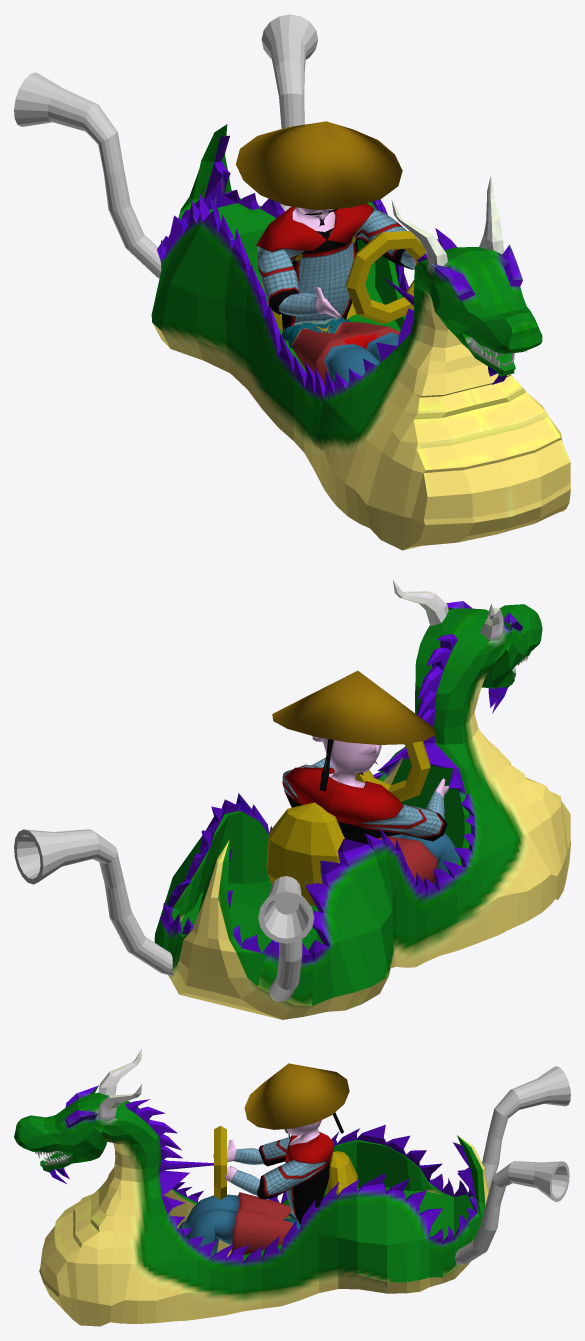
File: ChinoGiroDer_000199.obj
3 renders of one model, top to bottom at view 1: azimuth 30°, elevation 25°; view 2: azimuth 150°, elevation 25°; view 3: azimuth 270°, elevation 25°, orthographic. The views are drawn at different scales.
Parts seen in each view (by area): view 1: ChasisChino_ChasisChinoH, Chino_ChinoH, Tubos_TubosH, volanteChino_VolanteChinoH; view 2: ChasisChino_ChasisChinoH, Chino_ChinoH, Tubos_TubosH, AsientoChinoMalla_AsientoChinoMH, volanteChino_VolanteChinoH; view 3: ChasisChino_ChasisChinoH, Chino_ChinoH, Tubos_TubosH, AsientoChinoMalla_AsientoChinoMH, volanteChino_VolanteChinoH.
Part boxes in pixels (box(x1,y1,x2,y2)): ChasisChino_ChasisChinoH: box(151, 124, 570, 550); Chino_ChinoH: box(236, 121, 415, 387); Tubos_TubosH: box(14, 14, 317, 278); volanteChino_VolanteChinoH: box(346, 231, 425, 323); ChasisChino_ChasisChinoH: box(154, 580, 570, 1019); Chino_ChinoH: box(272, 670, 459, 884); Tubos_TubosH: box(14, 829, 314, 1001); AsientoChinoMalla_AsientoChinoMH: box(266, 802, 344, 906); volanteChino_VolanteChinoH: box(355, 741, 430, 801); ChasisChino_ChasisChinoH: box(14, 1049, 489, 1326); Chino_ChinoH: box(179, 1063, 349, 1255); Tubos_TubosH: box(455, 1066, 570, 1264); AsientoChinoMalla_AsientoChinoMH: box(325, 1151, 357, 1195); volanteChino_VolanteChinoH: box(214, 1126, 226, 1199).
Size of the model in its own units: 6.15 by 6.07 by 13.3.
Materials: 4 (4 with a texture image).
